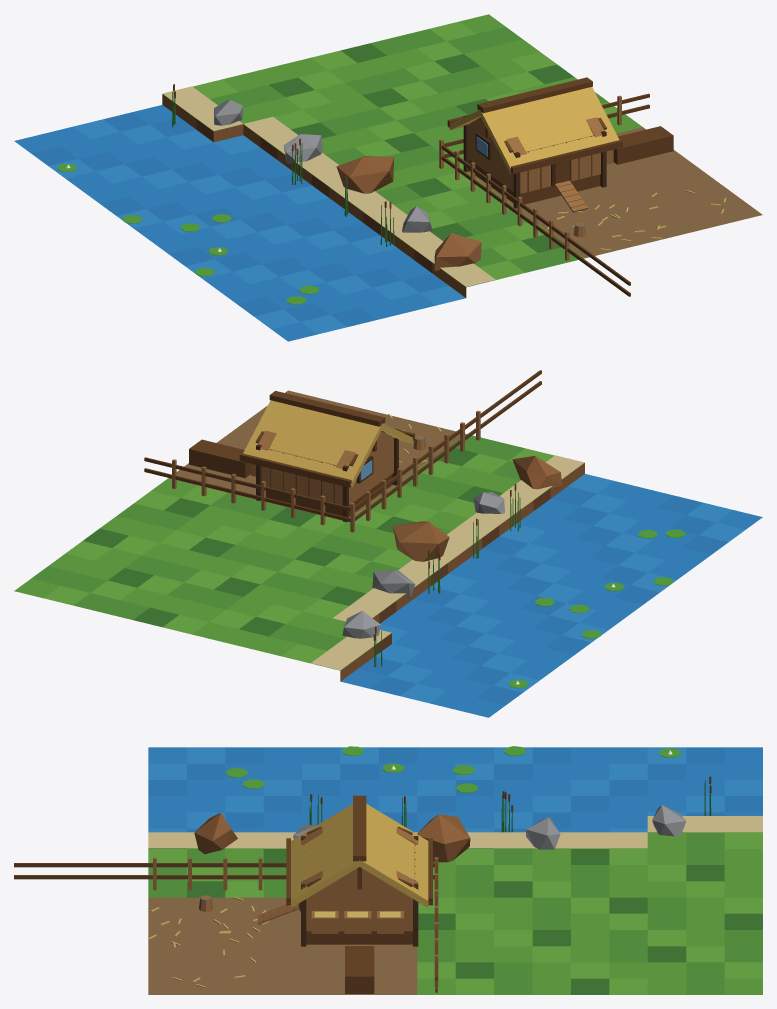
File: chunk_0_0.glb
3 views of the same model, one above another, from view 1: azimuth 30°, elevation 25°; view 2: azimuth 150°, elevation 25°; view 3: azimuth 270°, elevation 25° (orthographic). The views are drawn at different scales.
Parts seen in each view (by area): view 1: chunk_0_0; view 2: chunk_0_0; view 3: chunk_0_0.
Part boxes in pixels (left/top/right/bottom): chunk_0_0: left=14, top=14, right=762, bottom=341; chunk_0_0: left=14, top=370, right=762, bottom=717; chunk_0_0: left=14, top=746, right=762, bottom=994.
Bounding box in the file's own units: 16.53 × 3.29 × 19.5.
